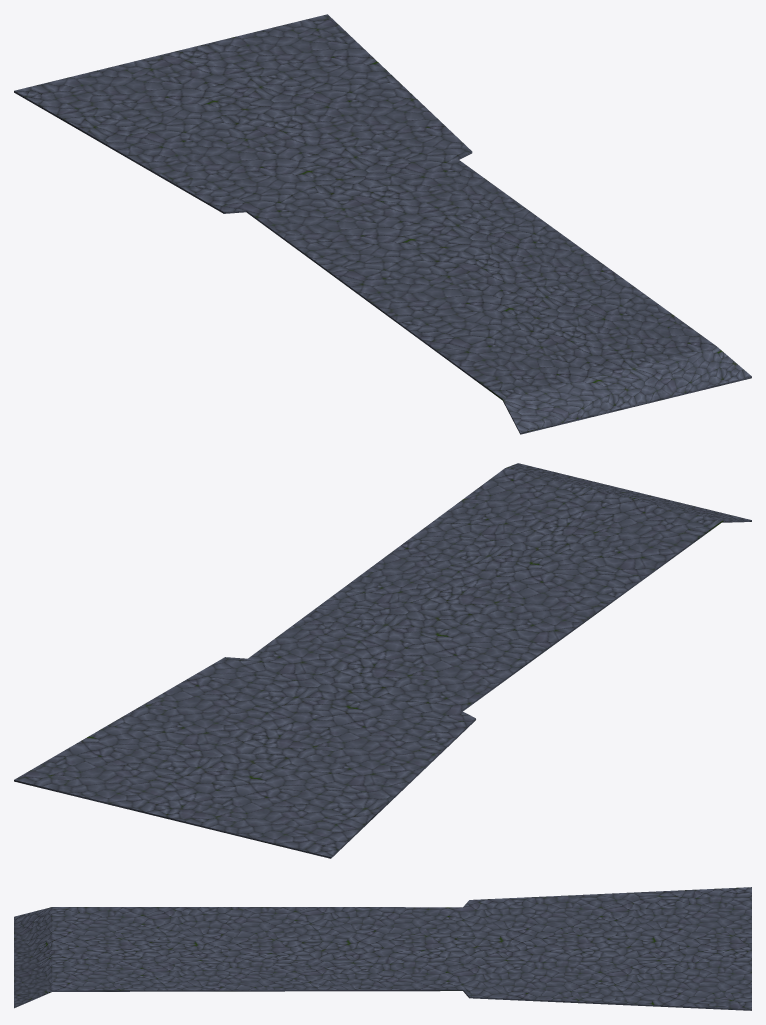
Rendered from socle.fbx.
The picture shows the model from 3 angles, top to bottom: view 1: azimuth 30°, elevation 25°; view 2: azimuth 150°, elevation 25°; view 3: azimuth 270°, elevation 25°; orthographic projection. The views are drawn at different scales.
Visible parts, largest first — view 1: Cube.084; view 2: Cube.084; view 3: Cube.084.
Part boxes in pixels (x1=…): Cube.084: x1=14, y1=14, x2=751, y2=434; Cube.084: x1=14, y1=463, x2=751, y2=858; Cube.084: x1=14, y1=887, x2=751, y2=1010.
Size of the model in its own units: 2272 by 117 by 5792.
1 material, 1 textured.
